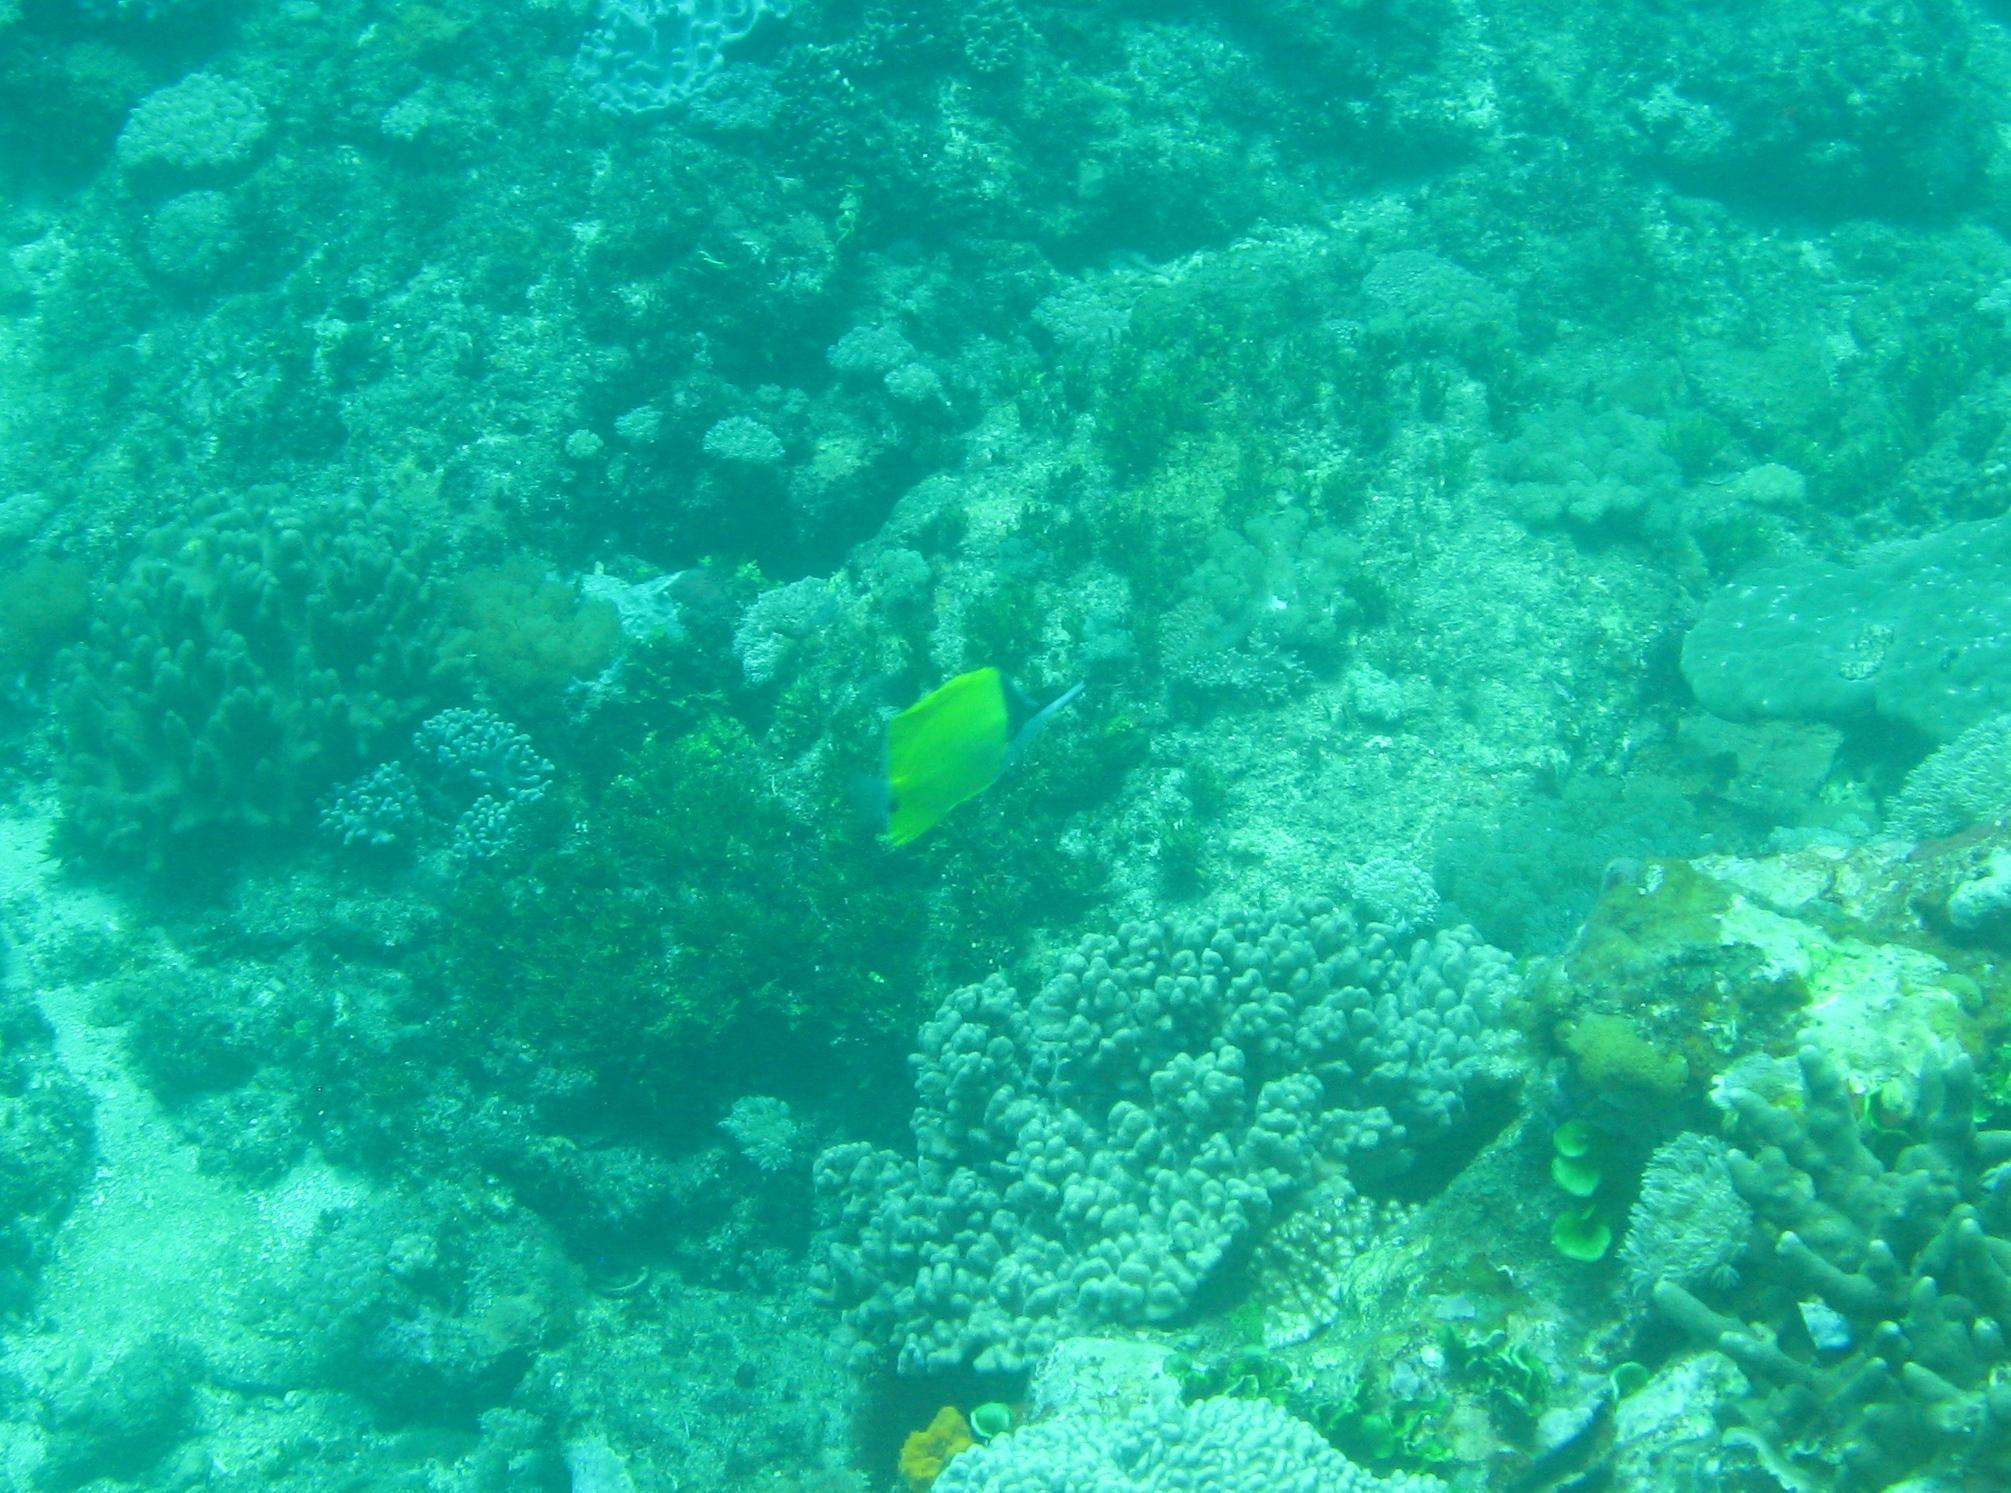Fish: (781, 651, 1137, 872)
